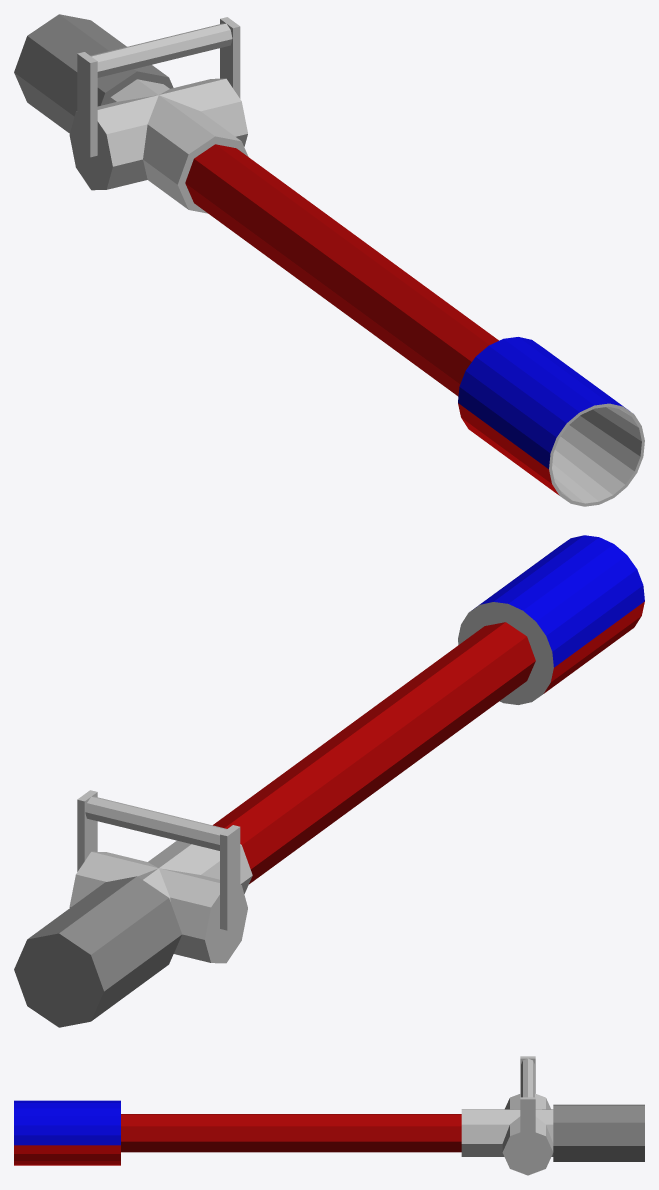
The model's file is R5_nozzle_0820.dae.
3 renders of one model, top to bottom at view 1: azimuth 30°, elevation 25°; view 2: azimuth 150°, elevation 25°; view 3: azimuth 270°, elevation 25°, orthographic. The views are drawn at different scales.
Parts seen in each view (by area): view 1: Group11; view 2: Group11; view 3: Group11.
Part boxes in pixels (x1,y1,x2,y2): Group11: (14,14,644,506); Group11: (14,535,644,1027); Group11: (14,1056,644,1175).
Bounding box in the file's own units: 0.1 × 0.62 × 0.092.
